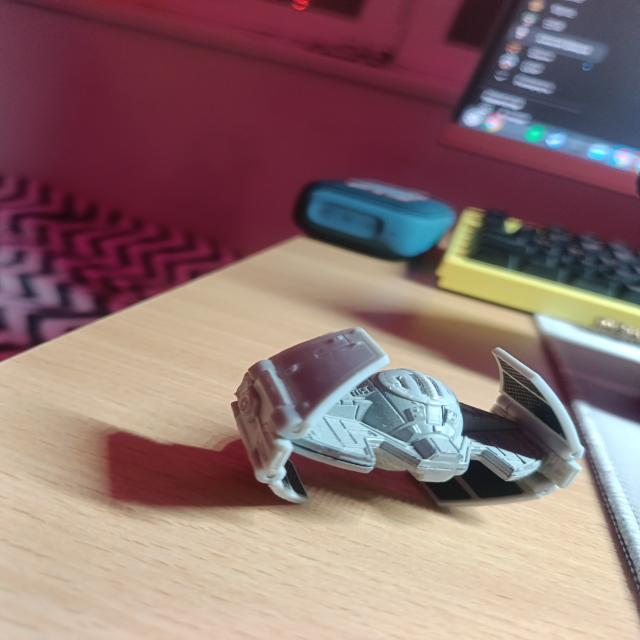tie fighter: (228, 322, 590, 502)
